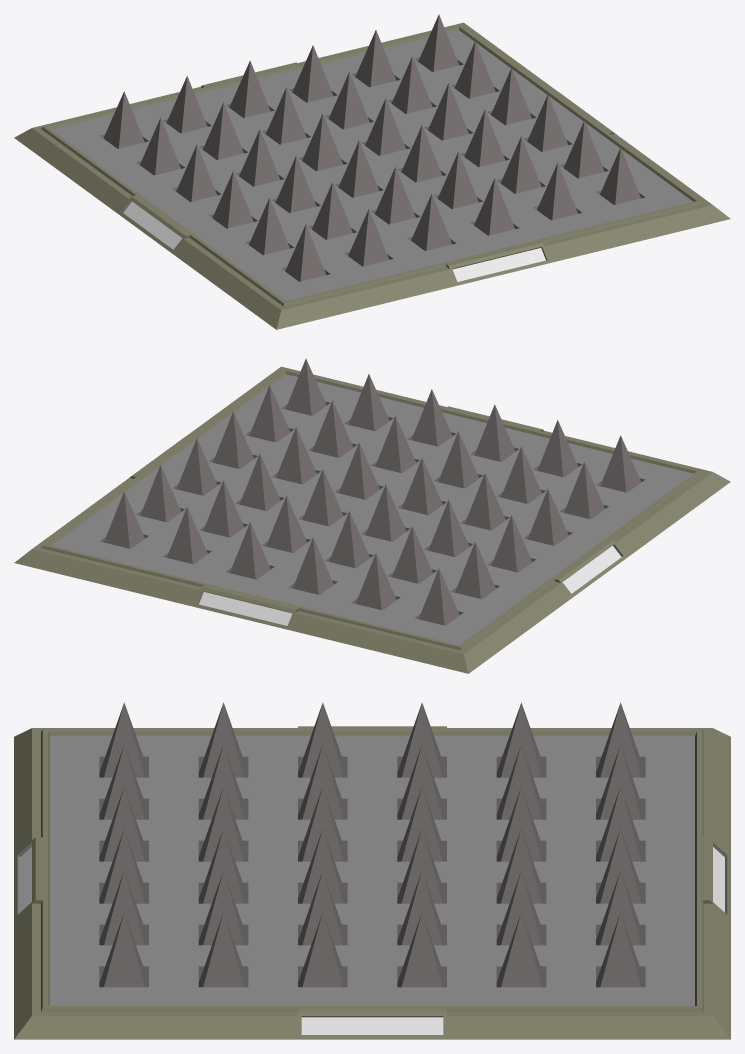
File: mshSpikeMat.fbx
3 renders of one model, top to bottom at view 1: azimuth 30°, elevation 25°; view 2: azimuth 150°, elevation 25°; view 3: azimuth 270°, elevation 25°, orthographic. The views are drawn at different scales.
Visible parts, largest first — view 1: spikeMat; view 2: spikeMat; view 3: spikeMat.
Boxes of the visible parts, x1,y1,x2,y2 form: spikeMat: [14, 14, 730, 329]; spikeMat: [14, 358, 730, 673]; spikeMat: [14, 702, 730, 1039].
Size of the model in its own units: 2 by 0.25 by 2.
